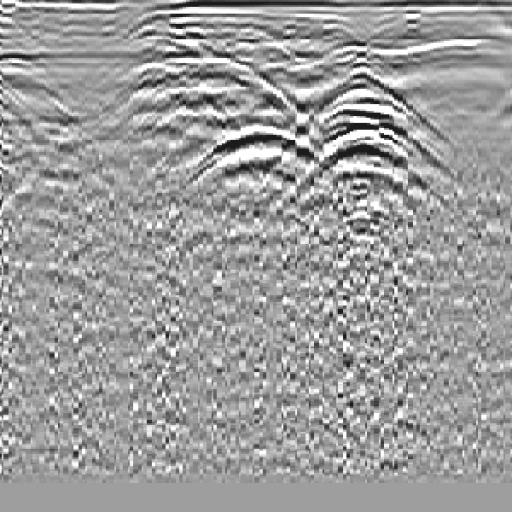metalic: (291, 37, 480, 284)
